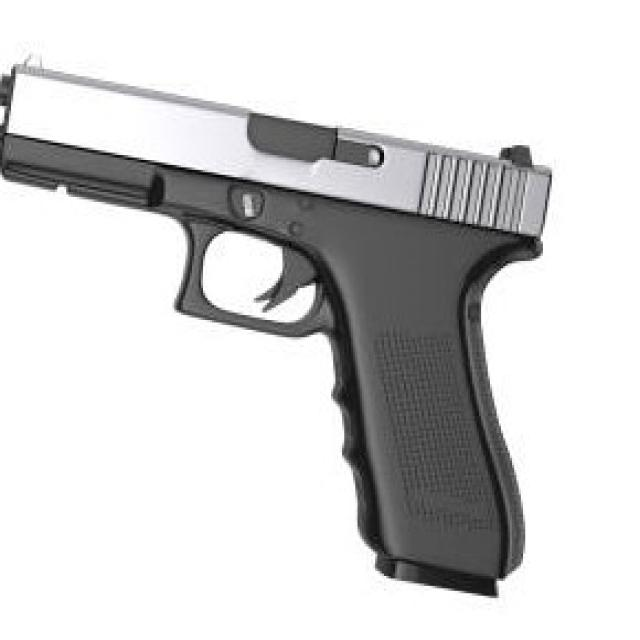pistol: (1, 48, 556, 611)
